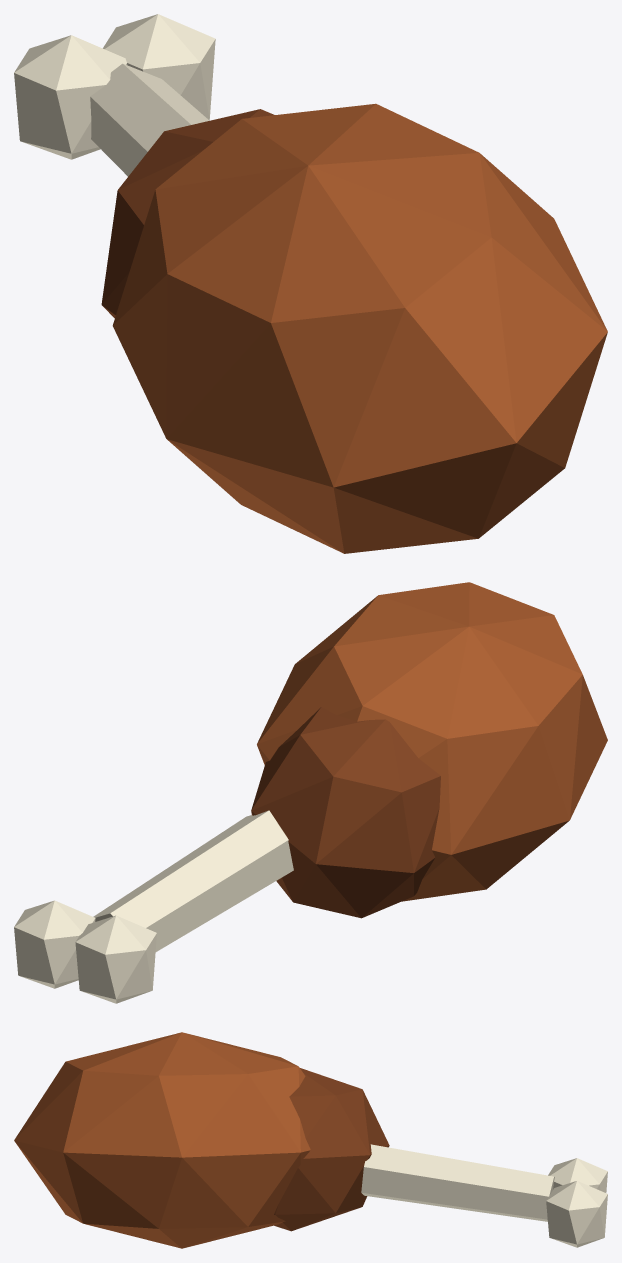
The model's file is drop_drumstick_cooked.glb.
The picture shows the model from 3 angles, top to bottom: view 1: azimuth 30°, elevation 25°; view 2: azimuth 150°, elevation 25°; view 3: azimuth 270°, elevation 25°; orthographic projection. The views are drawn at different scales.
Parts seen in each view (by area): view 1: drop_drumstick_cooked; view 2: drop_drumstick_cooked; view 3: drop_drumstick_cooked.
Part boxes in pixels (x1=…): drop_drumstick_cooked: x1=14, y1=14, x2=607, y2=553; drop_drumstick_cooked: x1=14, y1=582, x2=607, y2=1003; drop_drumstick_cooked: x1=14, y1=1032, x2=607, y2=1248.
Bounding box in the file's own units: 0.1517 × 0.1242 × 0.3534.
